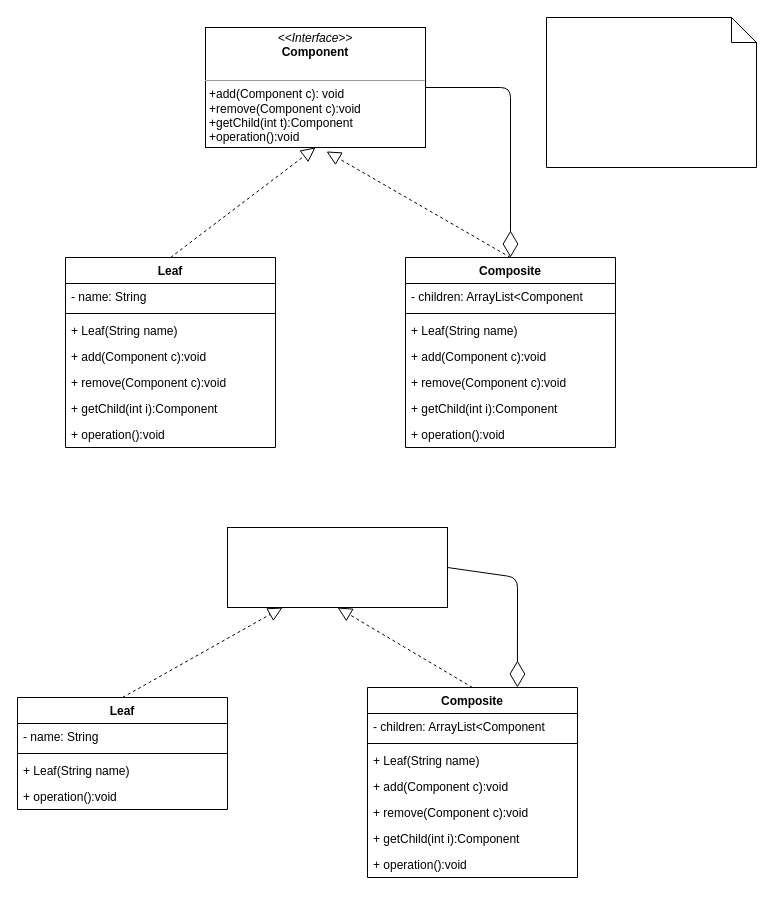
Image size: 774x898. Some labels were removed from this diagram. Here are the shapes that lost their labels. From the top down, the centre of each, then its label:
point 651,92: public void operation() { for(Component obj:children){ obj.operation() } }
point 337,567: <<Interface>> Component +operation():void
